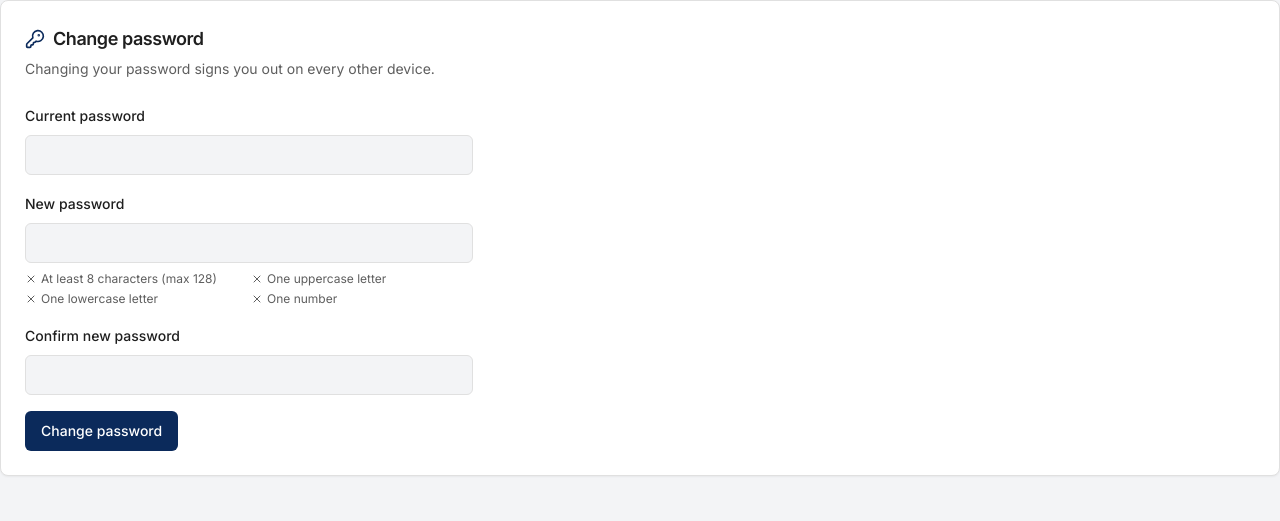
Test: <ChangePasswordCard> › rejects reusing the current password
The image size is (1280, 521).
Type "Same#Pass1" into the password field labelled "Current password" at (249, 155), box [25,135,473,175]
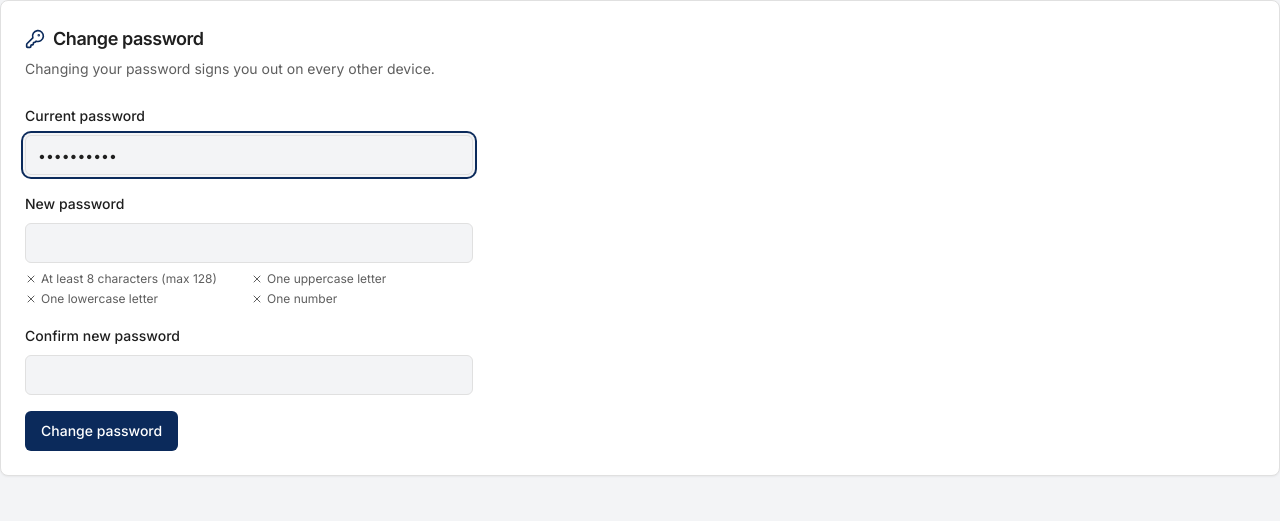
Type "Same#Pass1" into the password field labelled "New password" at (249, 243), box [25,223,473,263]
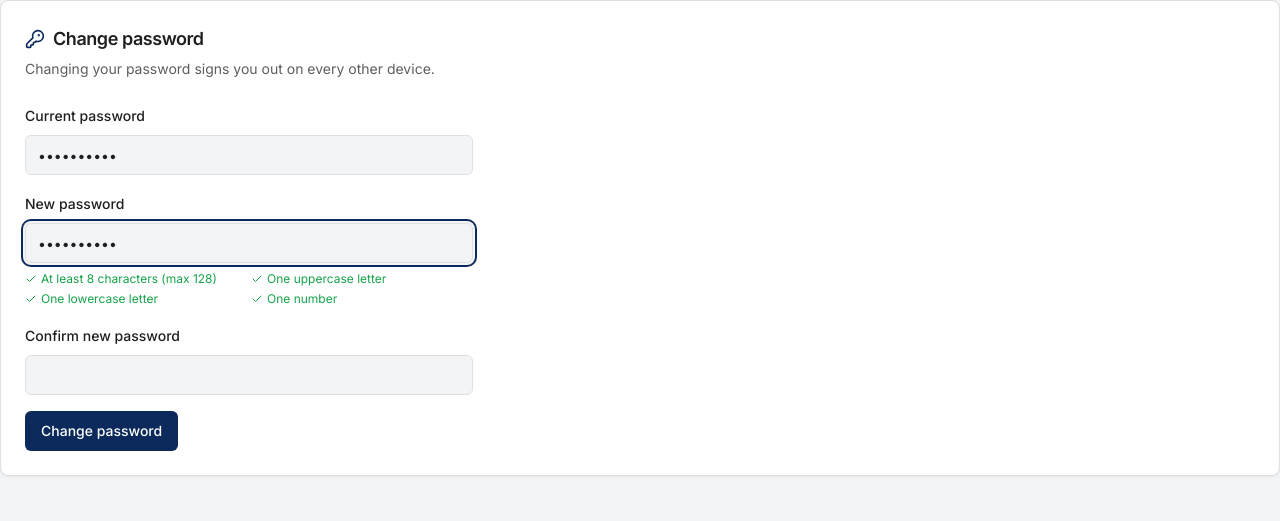
Type "Same#Pass1" into the password field labelled "Confirm new password" at (249, 375), box [25,355,473,395]
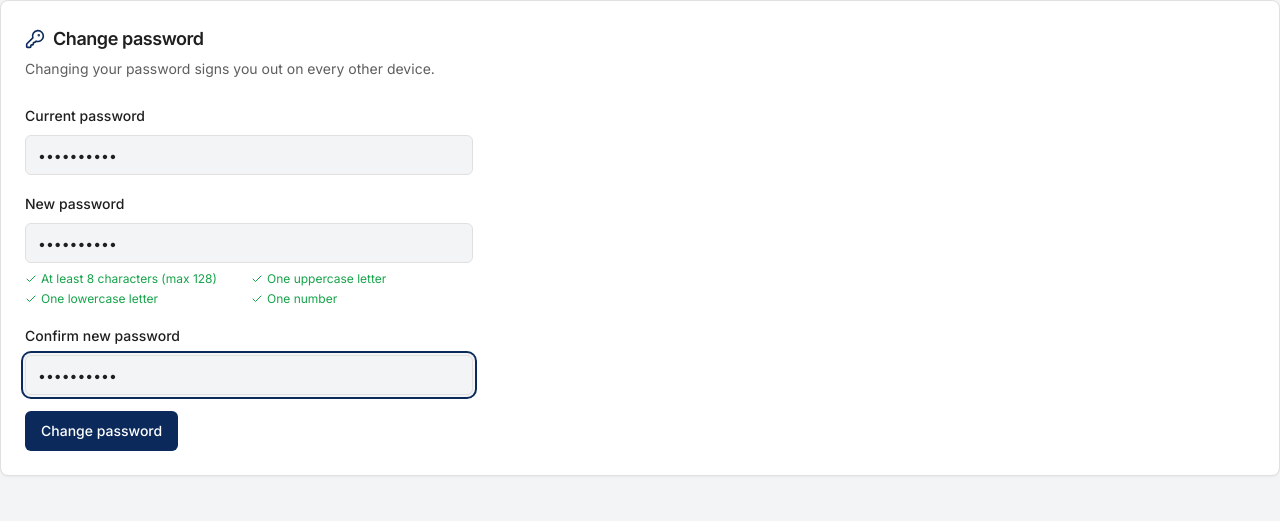
Click the button "Change password" at (102, 431), box [25,411,178,451]
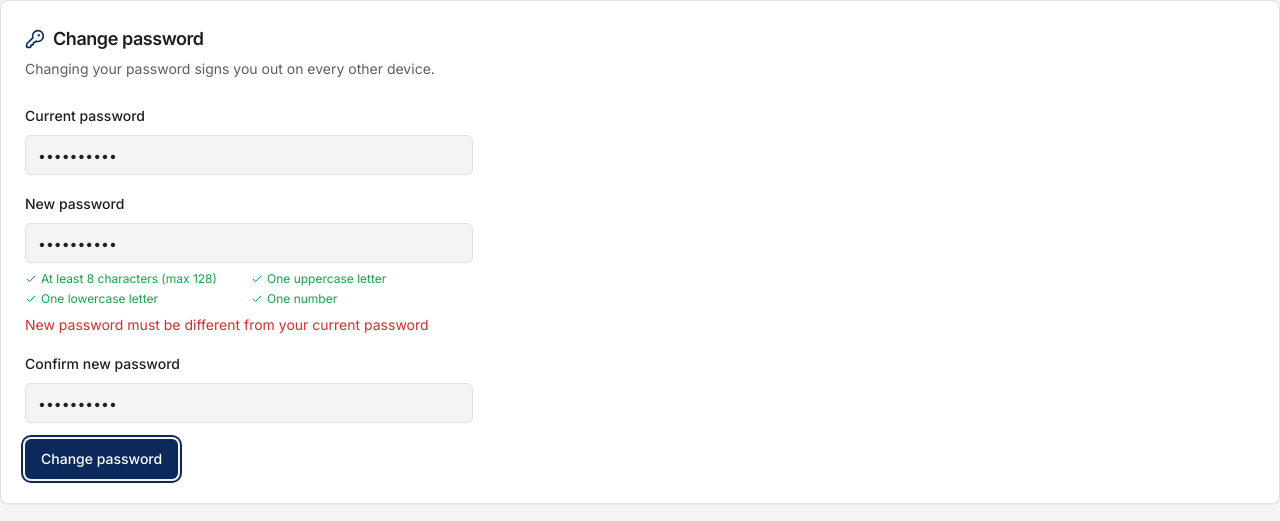
Now the text "New password must be different from your current password" is shown, box [25,315,473,335]
